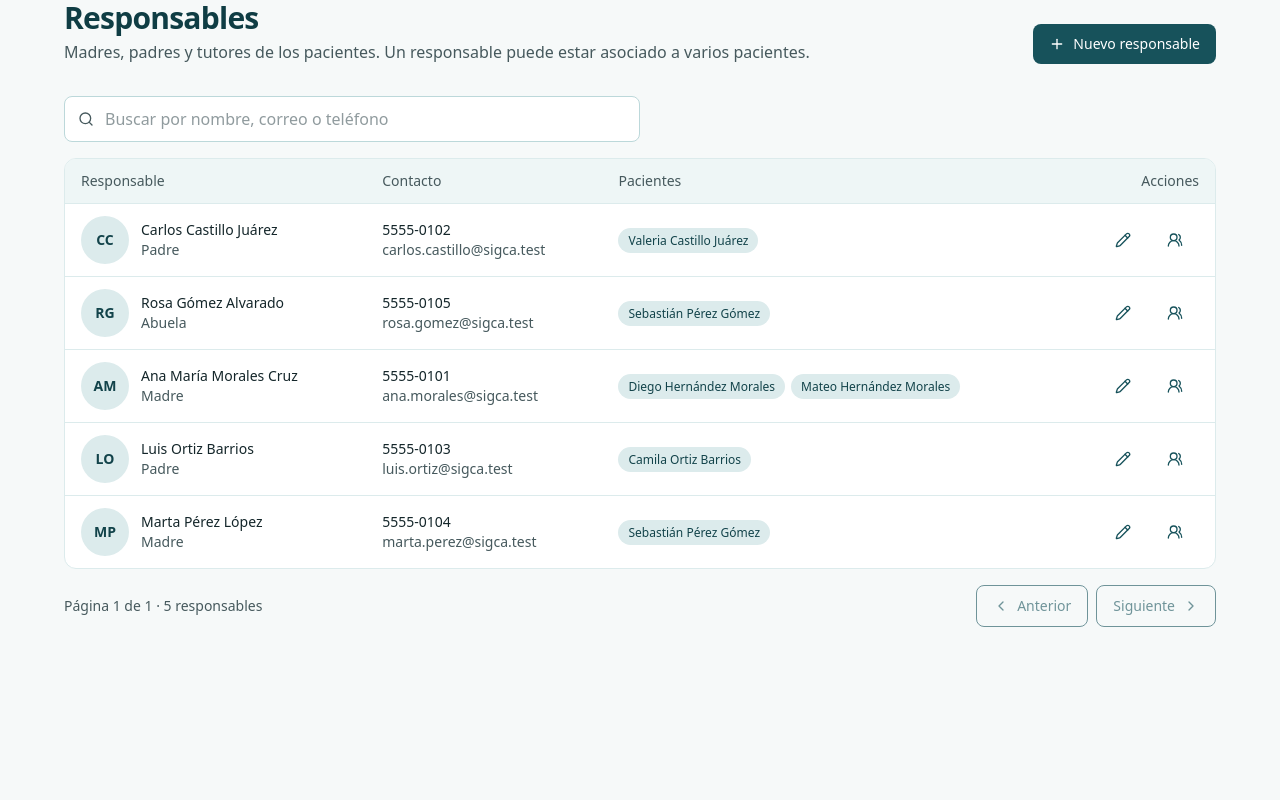
Test: Responsables › gestionar pacientes: ver, quitar y asociar otro
This screenshot has width=1280, height=800.
Click the button named "Gestionar pacientes de Ana María Morales Cruz" at (1175, 386), box [1151,368,1199,404]
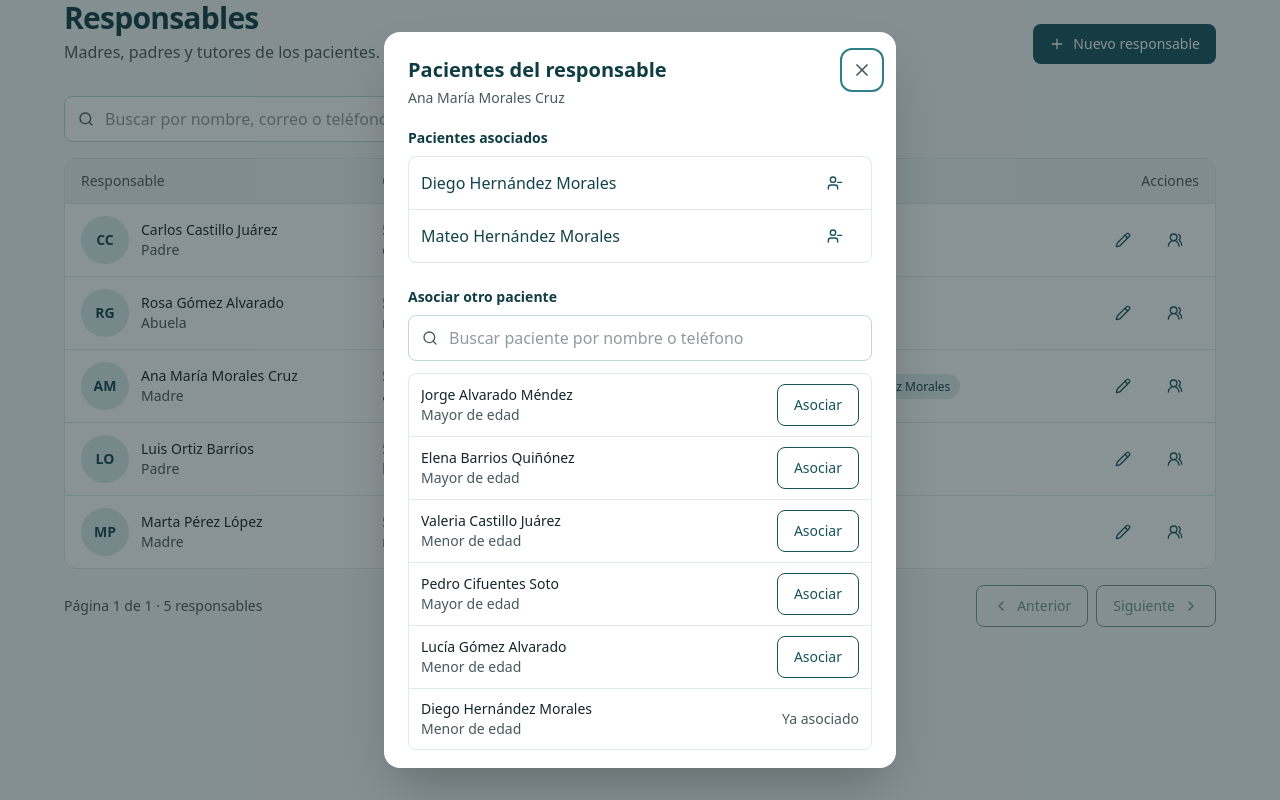
Check: the link "Mateo Hernández Morales" is shown, box [421,224,620,248]
Check: the link "Diego Hernández Morales" is shown, box [421,171,616,195]
// quitar a Mateo
Click the button named "Quitar a Mateo Hernández Morales" at (835, 236), box [811,218,859,254]
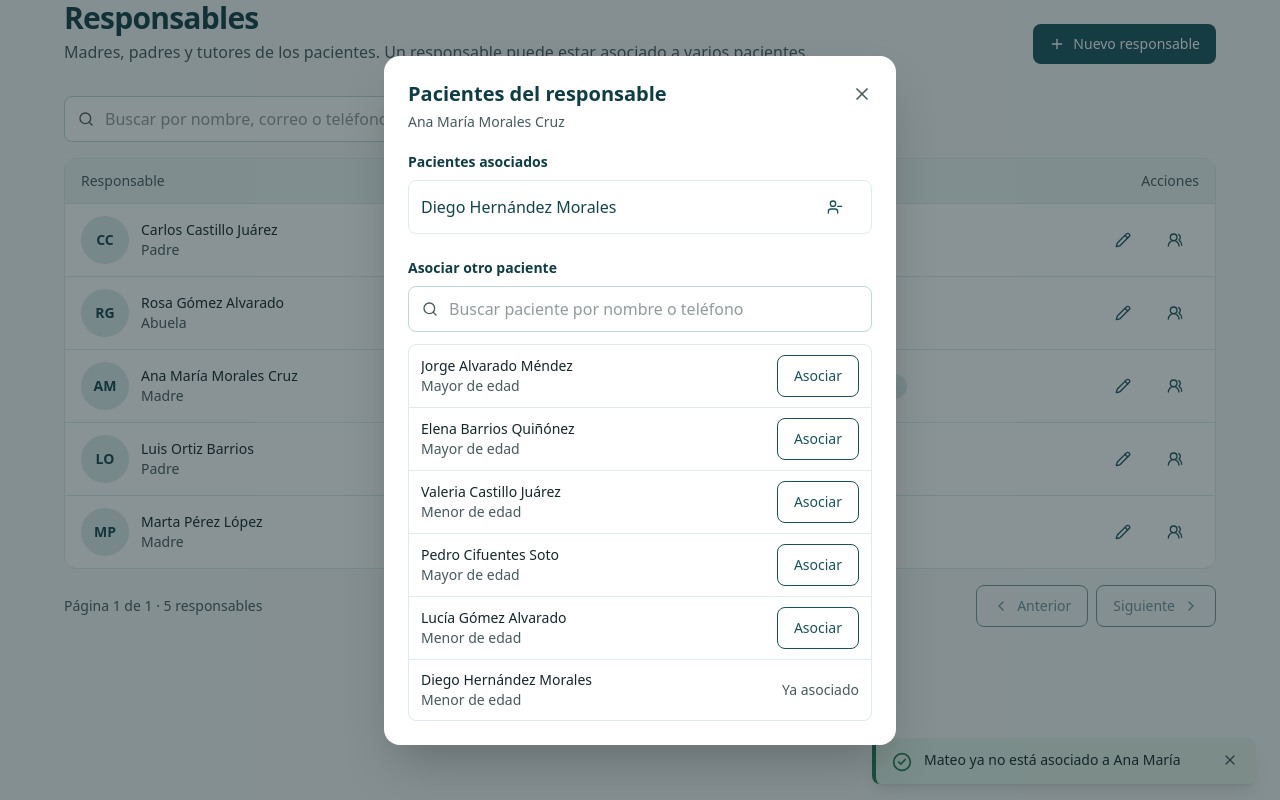
Check: the text "Mateo ya no está asociado a Ana María" is shown, box [924,750,1208,770]
Check: the link "Mateo Hernández Morales" is gone
// asociar a Lucía (menor sin responsable)
Type "lucia" into the search field labelled "Buscar paciente" at (640, 308), box [408,286,872,332]
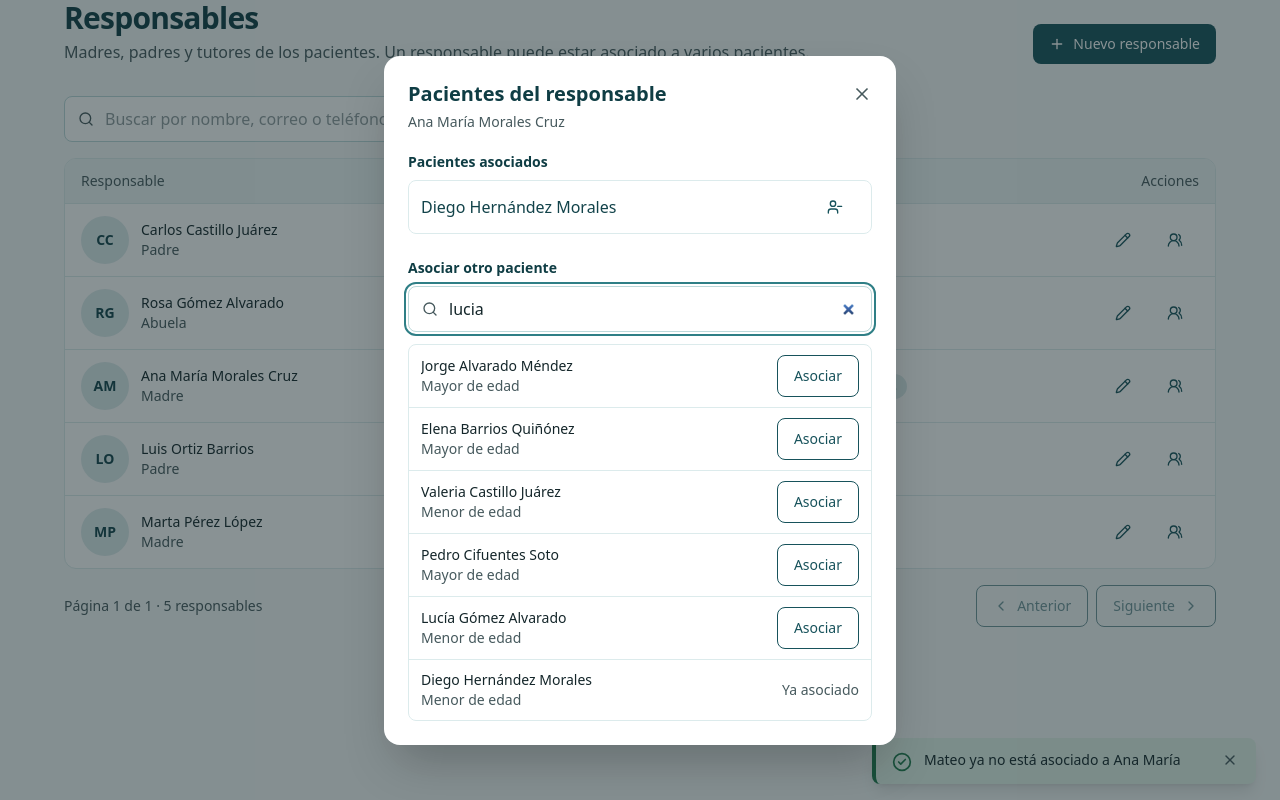
Click the button with aria-label "Asociar: Lucía Gómez Alvarado" at (818, 628), box [777,606,859,648]
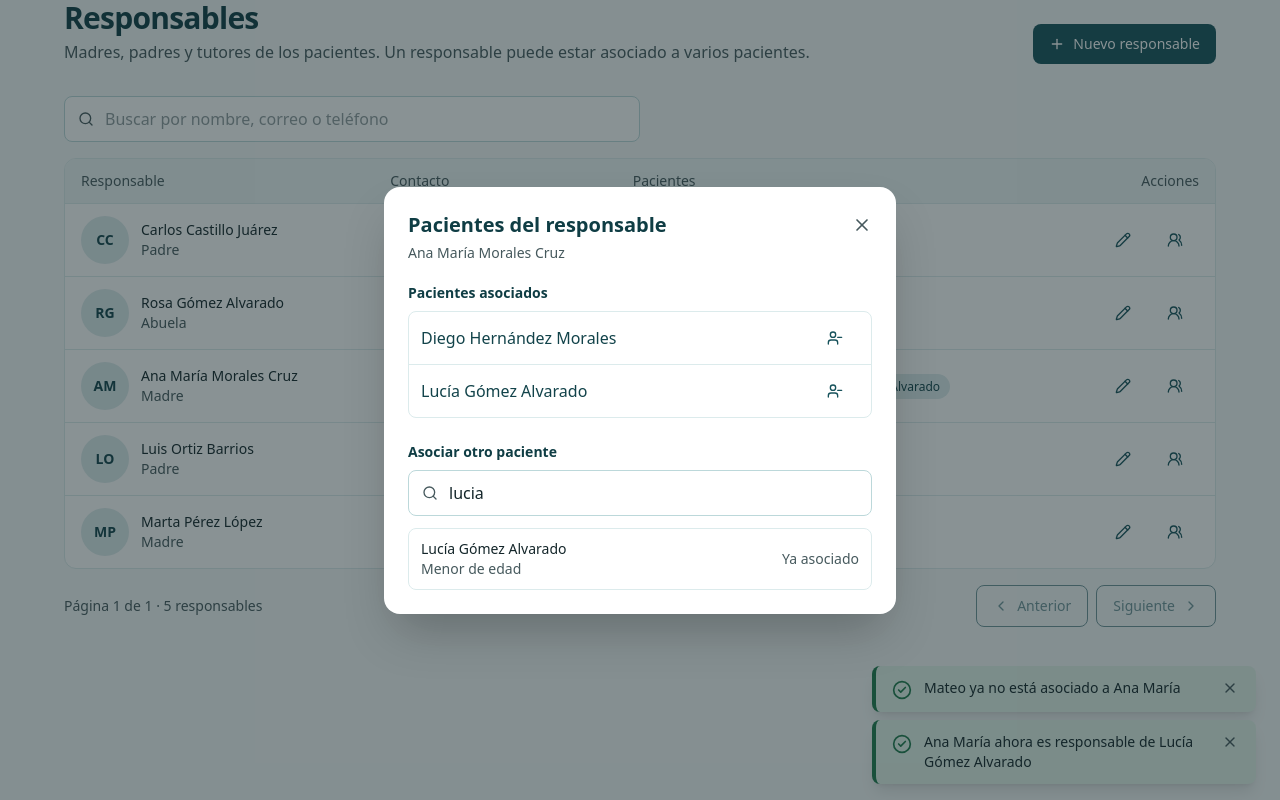
Check: the text "Ana María ahora es responsable de Lucía Gómez Alvarado" is shown, box [924,732,1208,772]
Check: the link "Lucía Gómez Alvarado" is shown, box [421,378,587,402]
